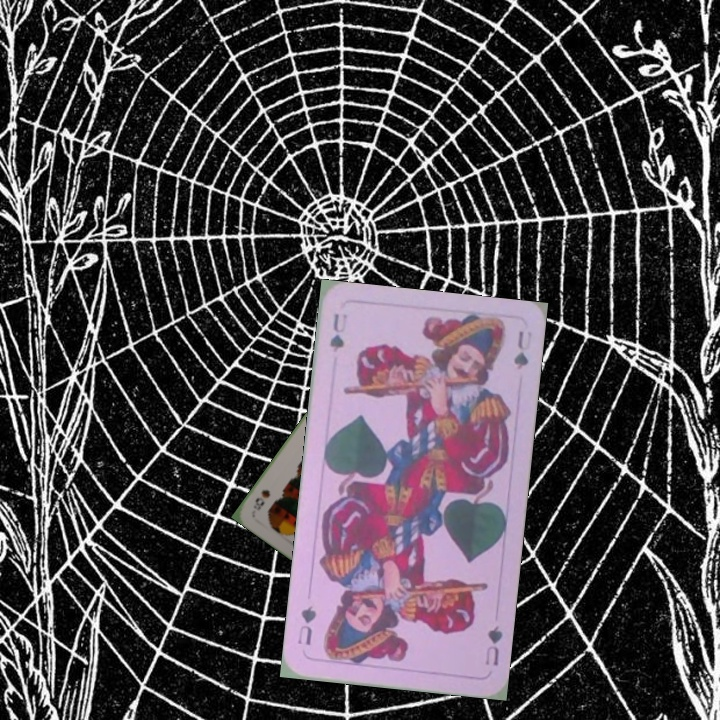GU: (325, 309, 350, 355), (481, 622, 505, 668)
